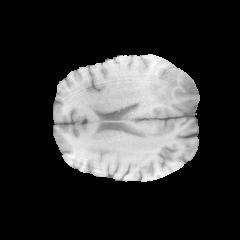glioma: (127, 61, 196, 116)
